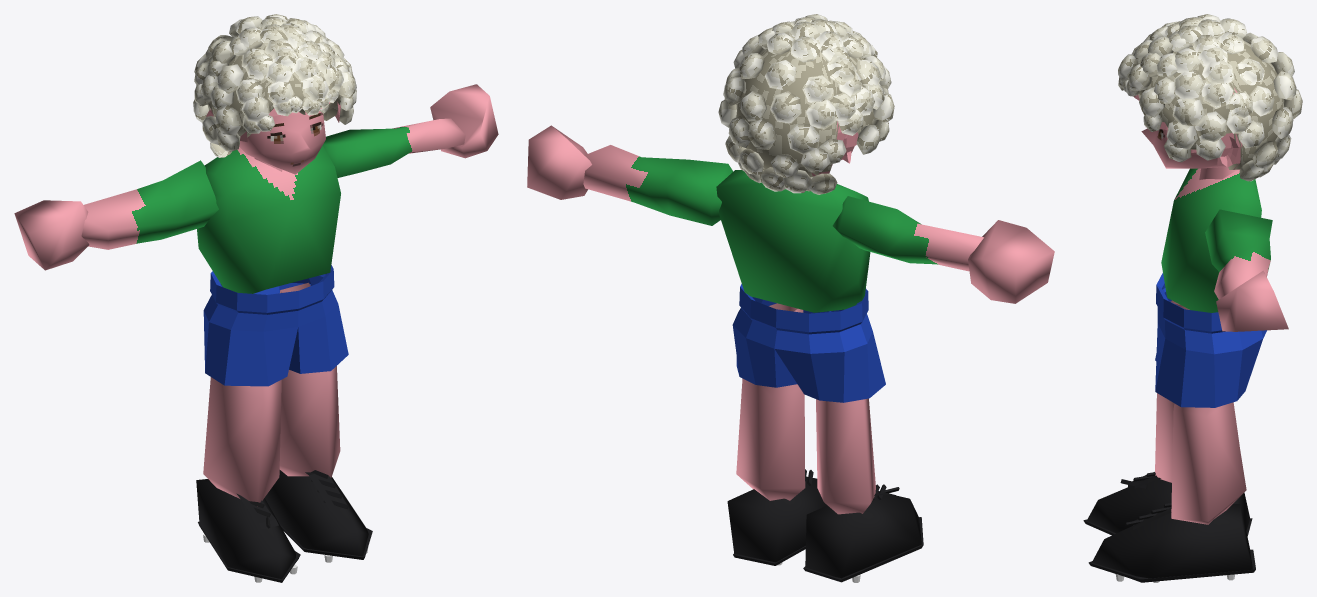
File: 04-cacheado-curto_loiro-pintado.glb
The picture shows the model from 3 angles, left to right: view 1: azimuth 30°, elevation 25°; view 2: azimuth 150°, elevation 25°; view 3: azimuth 270°, elevation 25°; orthographic projection. The views are drawn at different scales.
Visible parts, largest first — view 1: Camisa_Tronco, Cabelo, Bermuda, Perna.R, Braco.R, Perna.L, Chuteira.R, Chuteira.L, Braco.L, Mao.R, Cabeca, Mao.L (+1 smaller); view 2: Cabelo, Camisa_Tronco, Bermuda, Perna.L, Braco.L, Chuteira.R, Perna.R, Braco.R, Mao.R, Chuteira.L, Mao.L, Chuteira_Sola.R; view 3: Cabelo, Bermuda, Chuteira.L, Camisa_Tronco, Perna.L, Braco.L, Mao.L, Chuteira.R, Perna.R, Cabeca, Chuteira_Sola.L, Couro_Cabeludo (+3 smaller).
Boxes of the visible parts, x1,y1,x2,y2 form: Camisa_Tronco: (197, 145, 340, 293); Cabelo: (193, 14, 356, 157); Bermuda: (203, 265, 348, 386); Perna.R: (203, 377, 281, 506); Braco.R: (81, 160, 218, 249); Perna.L: (279, 282, 340, 477); Chuteira.R: (196, 479, 298, 579); Chuteira.L: (264, 470, 368, 556); Braco.L: (322, 118, 465, 177); Mao.R: (14, 200, 89, 270); Cabeca: (239, 111, 325, 174); Mao.L: (430, 84, 498, 158); Cabelo: (718, 14, 894, 194); Camisa_Tronco: (716, 170, 870, 312); Bermuda: (732, 284, 885, 402); Perna.L: (736, 303, 805, 500); Braco.L: (583, 145, 733, 225); Chuteira.R: (805, 491, 921, 578); Perna.R: (816, 398, 875, 514); Braco.R: (832, 196, 983, 271); Mao.R: (968, 220, 1054, 303); Chuteira.L: (727, 476, 826, 562); Mao.L: (527, 125, 591, 199); Chuteira_Sola.R: (803, 517, 923, 582); Cabelo: (1118, 14, 1302, 181); Bermuda: (1155, 273, 1266, 407); Chuteira.L: (1092, 504, 1252, 582); Camisa_Tronco: (1161, 168, 1261, 312); Perna.L: (1171, 402, 1246, 524); Braco.L: (1205, 209, 1272, 299); Mao.L: (1216, 270, 1288, 331); Chuteira.R: (1087, 475, 1249, 533); Perna.R: (1155, 300, 1239, 482); Cabeca: (1141, 128, 1228, 168); Chuteira_Sola.L: (1088, 549, 1255, 582); Couro_Cabeludo: (1133, 88, 1242, 169).
Bounding box in the file's own units: 0.4523 × 0.4644 × 0.1726.
3 materials, 3 textured.
